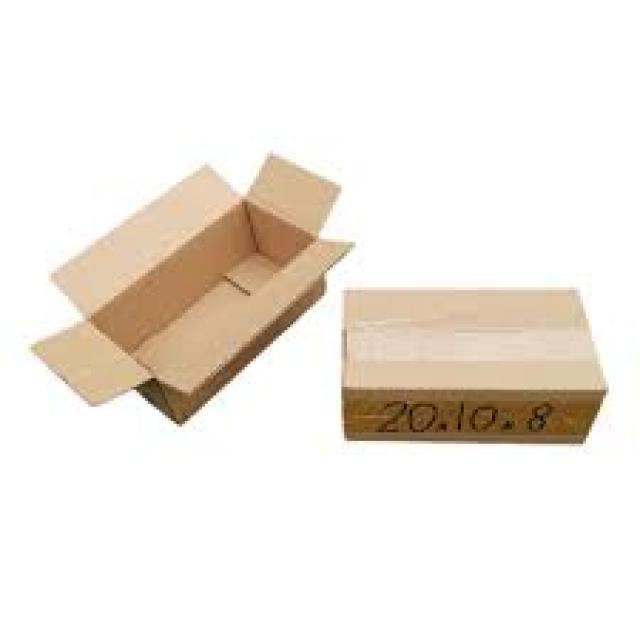Kardus kondisi bagus: (28, 157, 350, 423), (346, 286, 607, 442)
